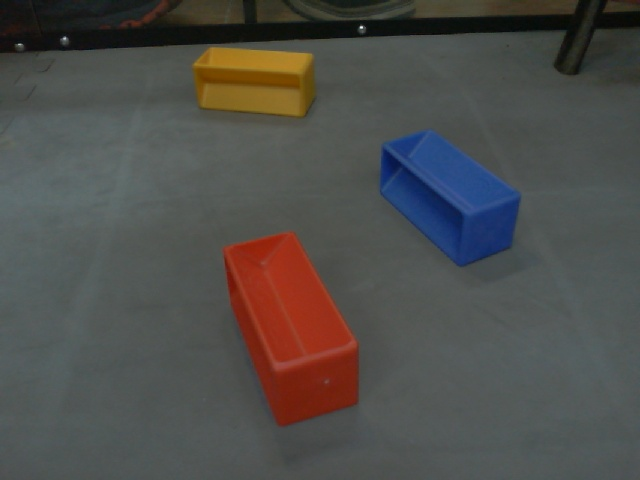BlueSample: (376, 125, 522, 271)
RedSample: (219, 229, 362, 430)
YellowSample: (192, 46, 318, 121)
